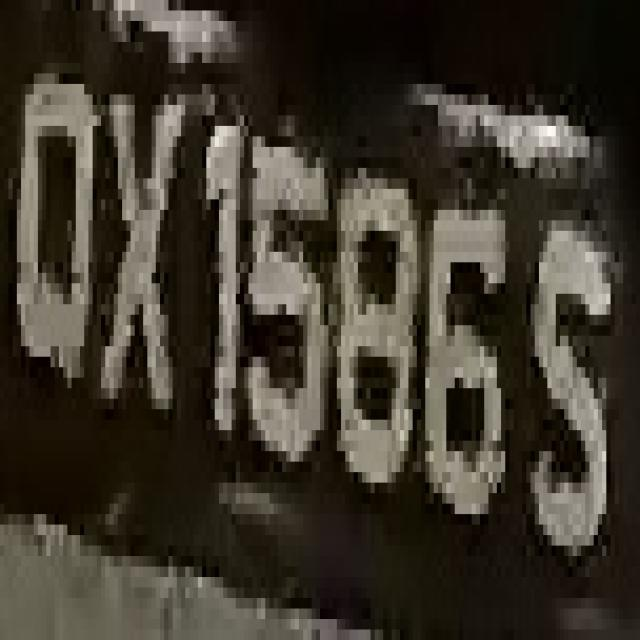1: (202, 63, 244, 472)
5: (244, 105, 333, 483)
6: (413, 178, 522, 524)
8: (328, 136, 412, 514)
Q: (12, 32, 96, 409)
S: (530, 178, 619, 577)
X: (97, 42, 181, 462)
